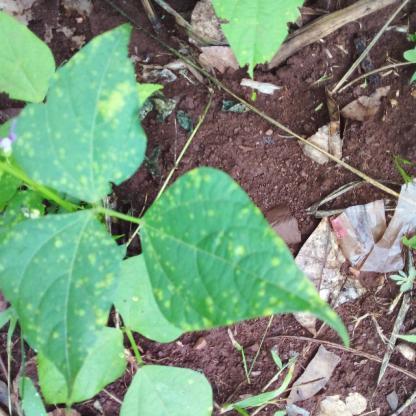Beans_Rust: (139, 165, 351, 346), (12, 19, 148, 200), (3, 212, 126, 375)
